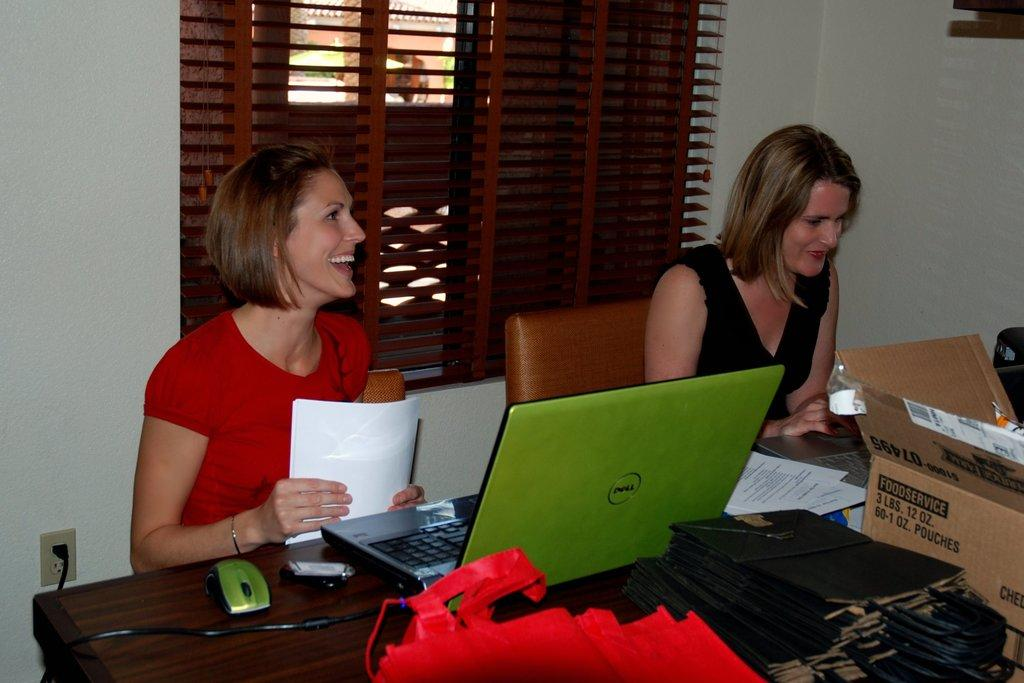Computer-keyboard: (372, 518, 474, 574), (806, 445, 872, 488)
